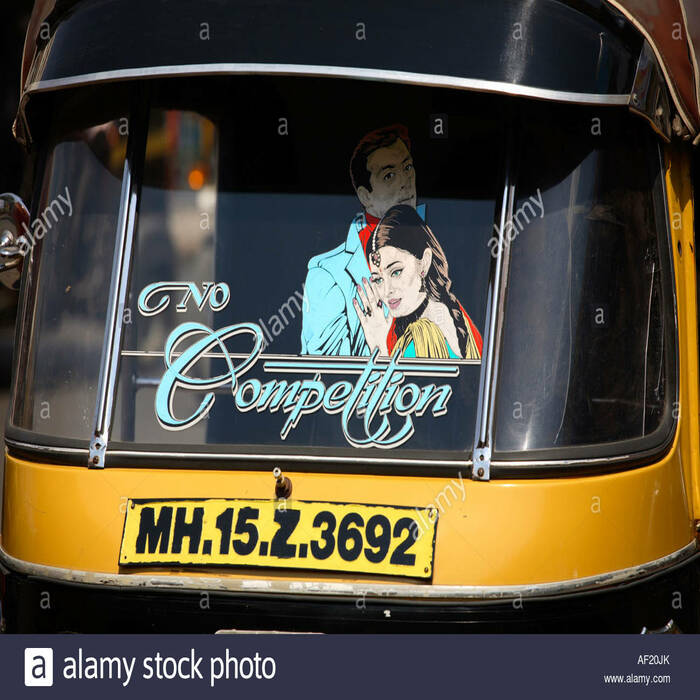n: (120, 497, 433, 579)
